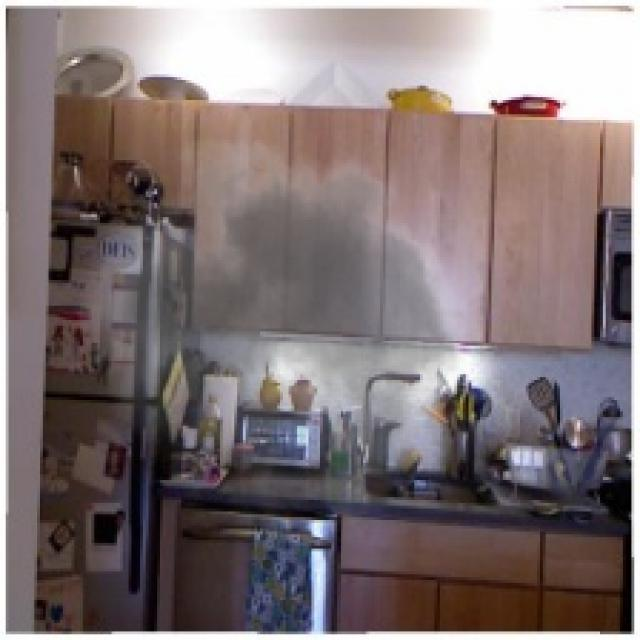Smoke: (77, 117, 489, 540)
